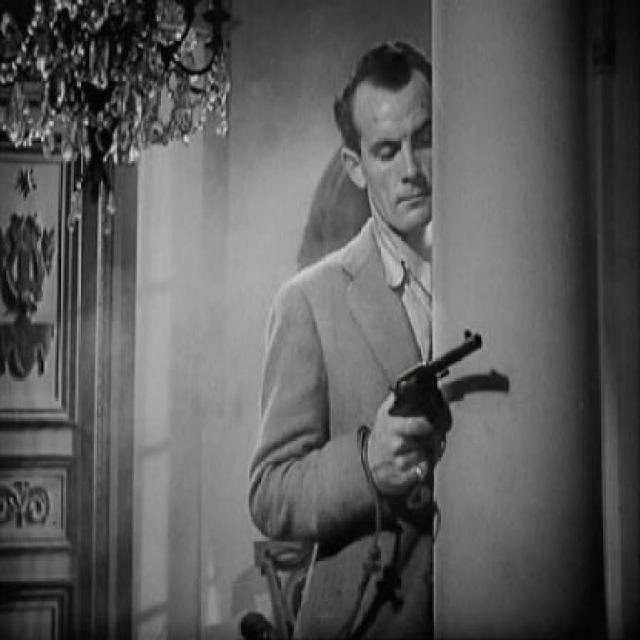gun: (391, 259, 502, 458)
